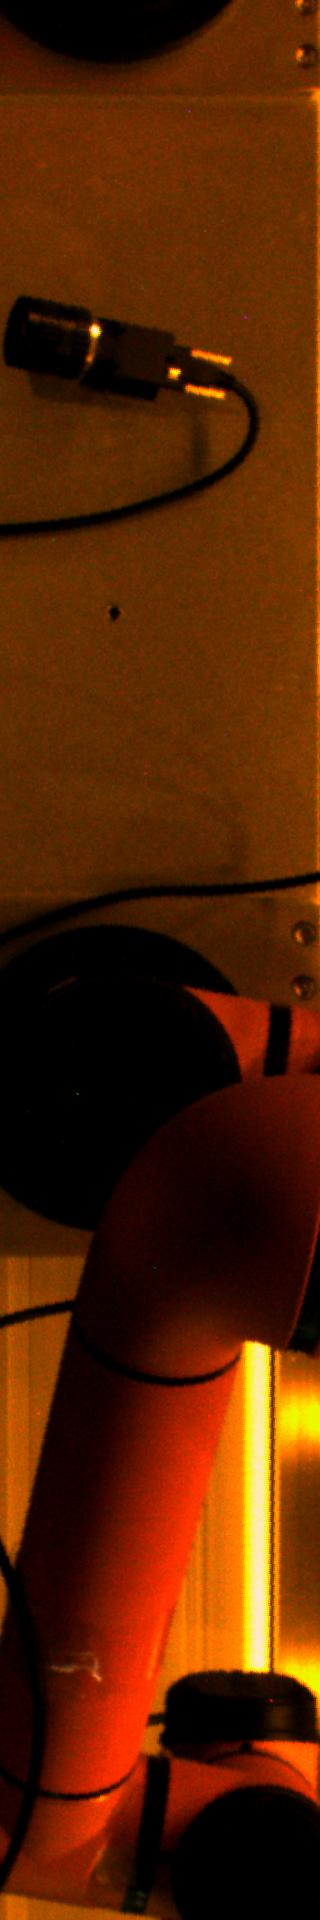keyPoint_2: (98, 599, 128, 629)
